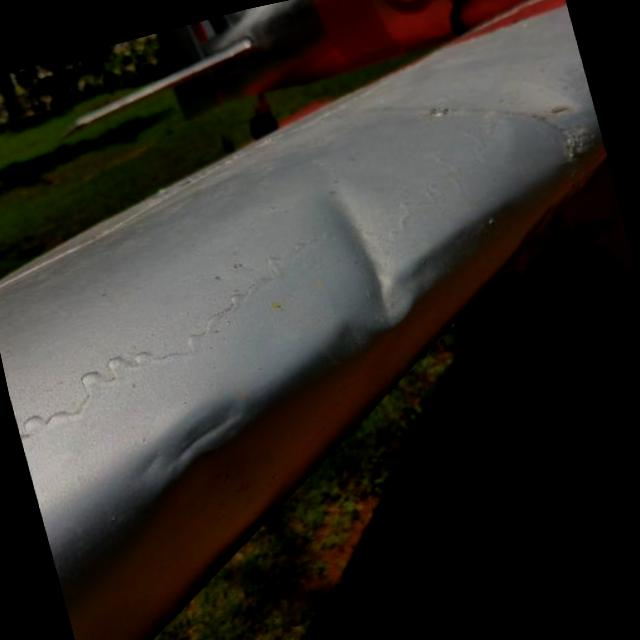dent: (256, 150, 460, 373), (100, 376, 284, 531)
